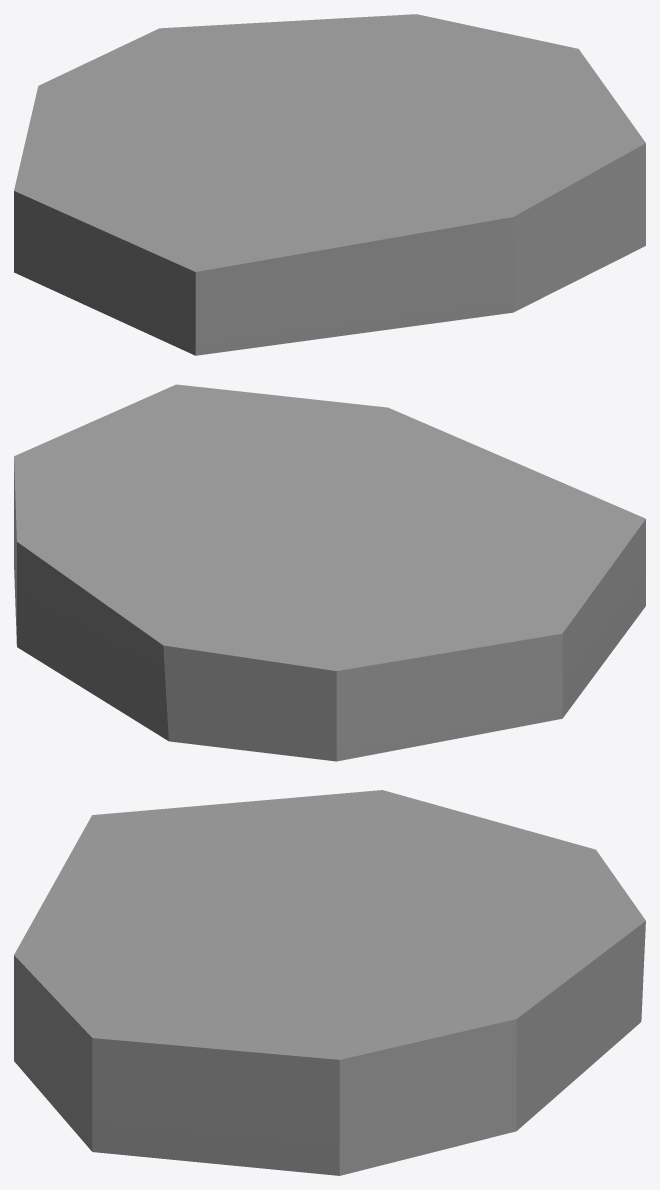
Rendered from stone flat 5.fbx.
3 renders of one model, top to bottom at view 1: azimuth 30°, elevation 25°; view 2: azimuth 150°, elevation 25°; view 3: azimuth 270°, elevation 25°, orthographic. The views are drawn at different scales.
Visible parts, largest first — view 1: stone flat 5; view 2: stone flat 5; view 3: stone flat 5.
Part boxes in pixels (bbox=[...]): stone flat 5: bbox=[14, 14, 645, 355]; stone flat 5: bbox=[14, 384, 645, 761]; stone flat 5: bbox=[14, 790, 645, 1175].
Bounding box in the file's own units: 62.9 × 11.53 × 56.88.
